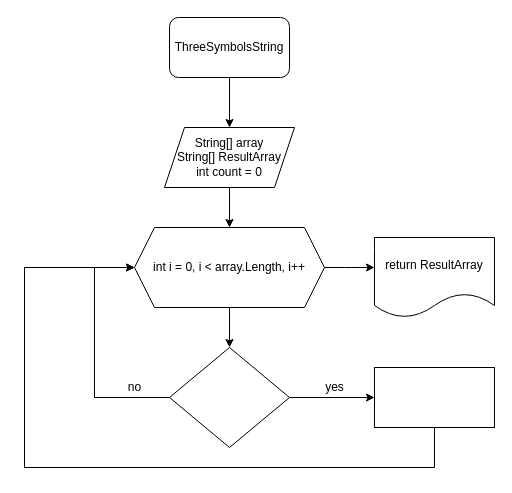
This 512x493 diagram has some shape labels left out. Here are the shapes that lost their labels. From the top down, the centre of each, then its label:
[229,397]: array[i].Length <=3
[434,397]: ResultArray[count] = array[i]; count ++
